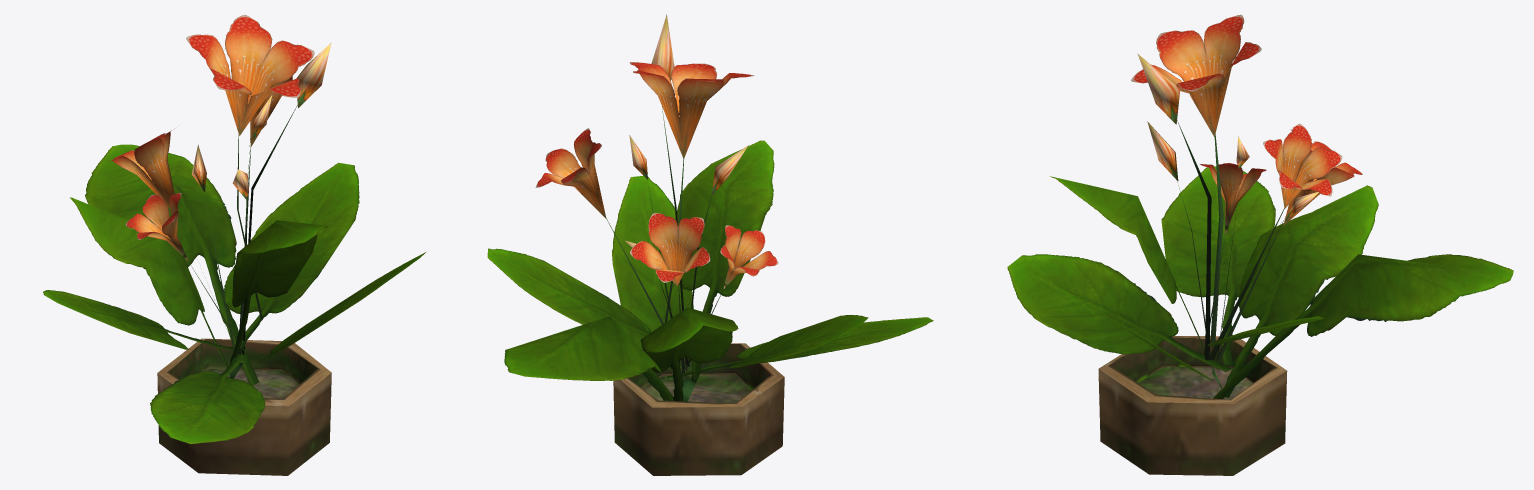
Rendered from wm_灌木盆栽14.fbx.
3 renders of one model, left to right at view 1: azimuth 30°, elevation 25°; view 2: azimuth 150°, elevation 25°; view 3: azimuth 270°, elevation 25°, orthographic. The views are drawn at different scales.
Parts seen in each view (by area): view 1: wm_灌木盆栽14; view 2: wm_灌木盆栽14; view 3: wm_灌木盆栽14.
Boxes of the visible parts, x1,y1,x2,y2 form: wm_灌木盆栽14: [43, 15, 425, 475]; wm_灌木盆栽14: [487, 14, 933, 475]; wm_灌木盆栽14: [1007, 14, 1513, 475].
Bounding box in the file's own units: 178 × 188 × 221.
